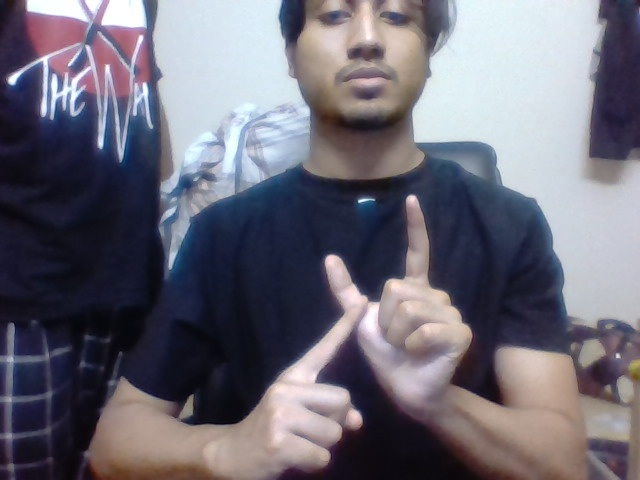Y: (310, 195, 435, 369)
